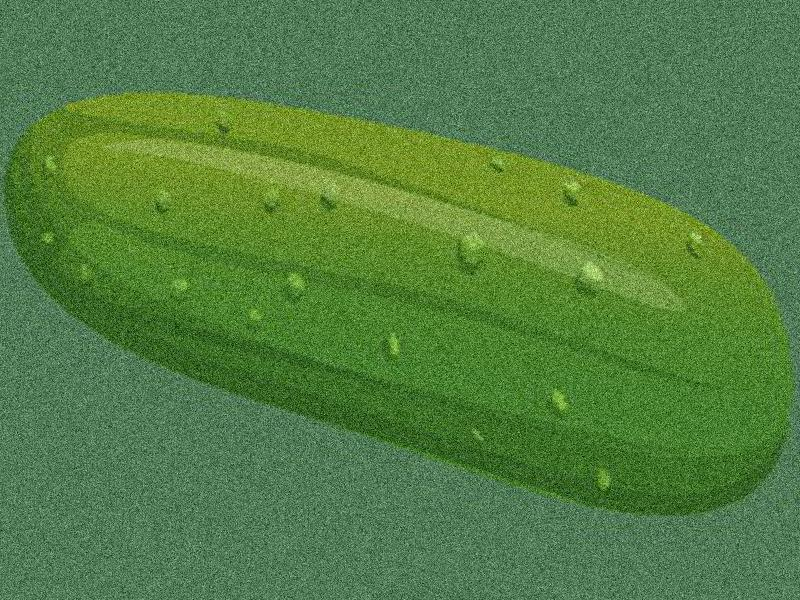Cucumber: (6, 93, 795, 515)
